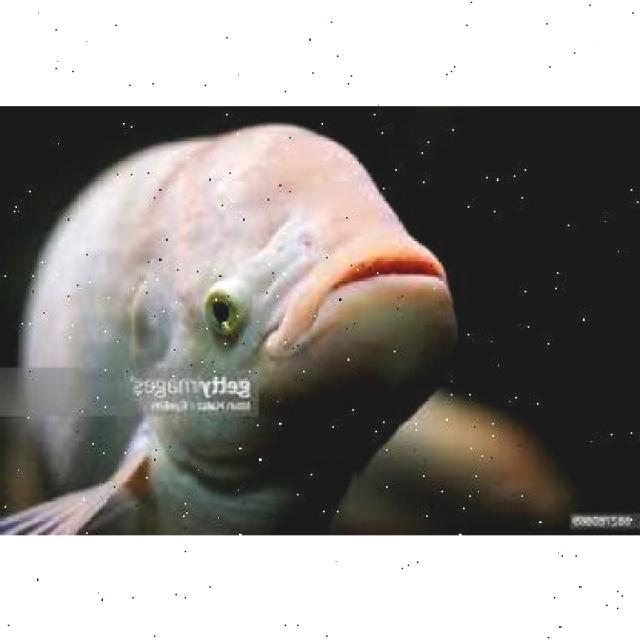gurame: (16, 110, 470, 532)
